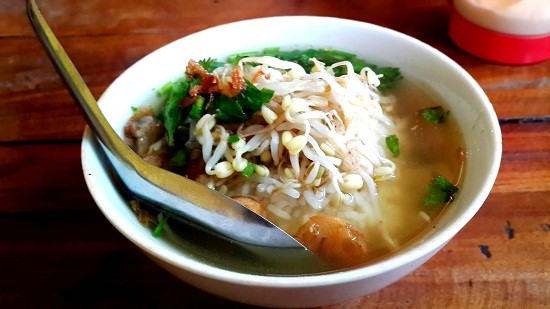soto: (60, 9, 523, 305)
